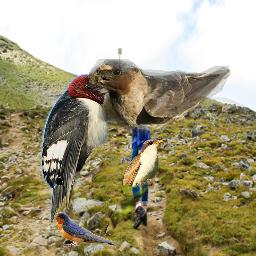Cuckoo: (101, 136, 169, 239)
Swallow: (89, 59, 231, 136), (52, 211, 116, 249)
Woodpecker: (41, 74, 122, 222)
